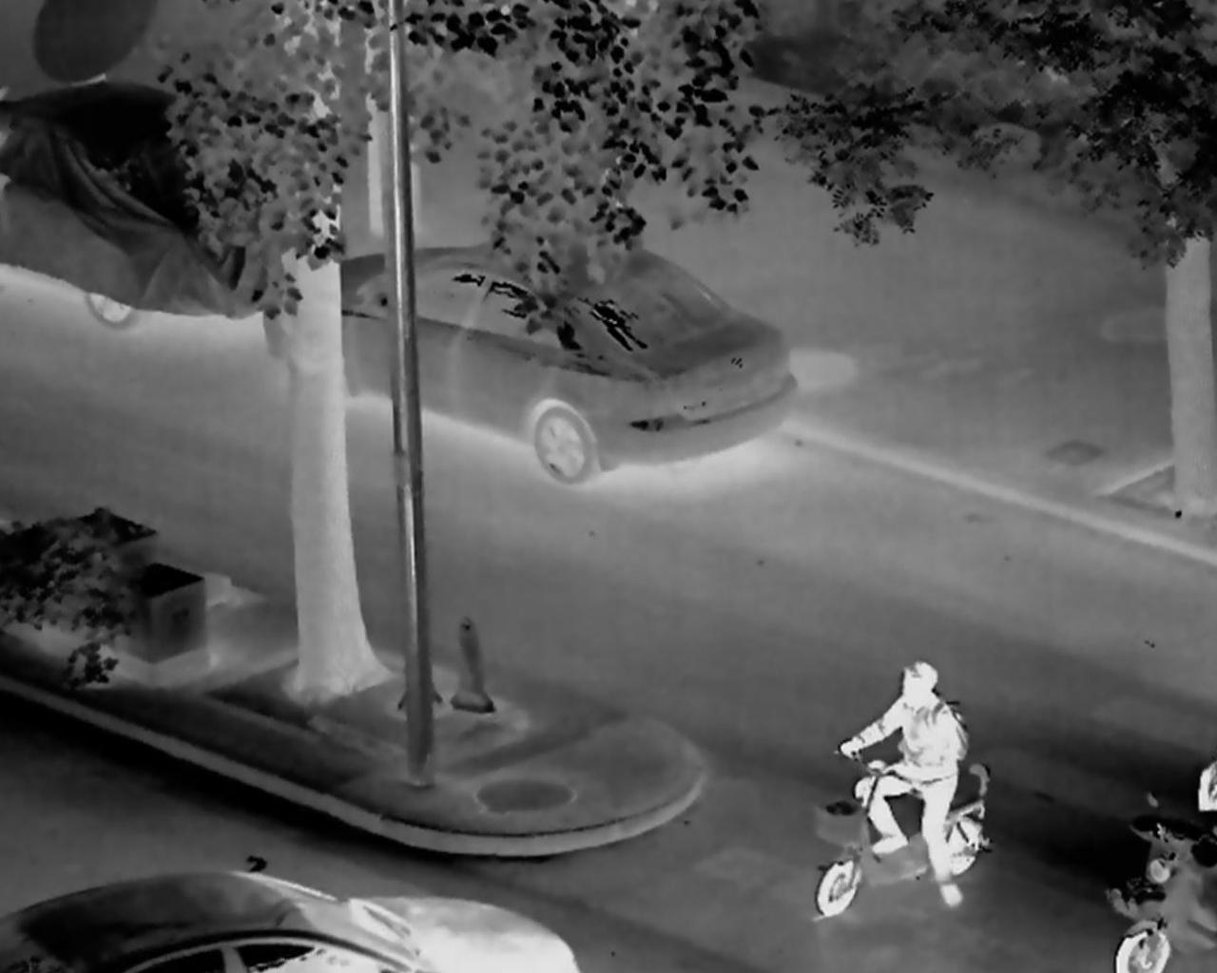person: (834, 654, 971, 909)
